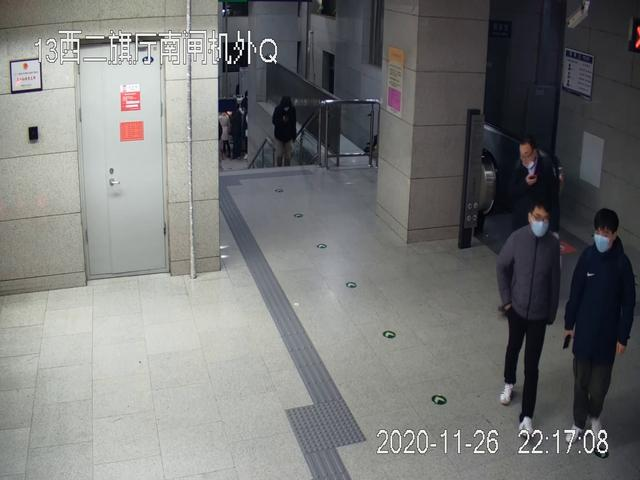person: (564, 206, 634, 441), (496, 192, 562, 439), (506, 137, 561, 309), (271, 95, 297, 173)
